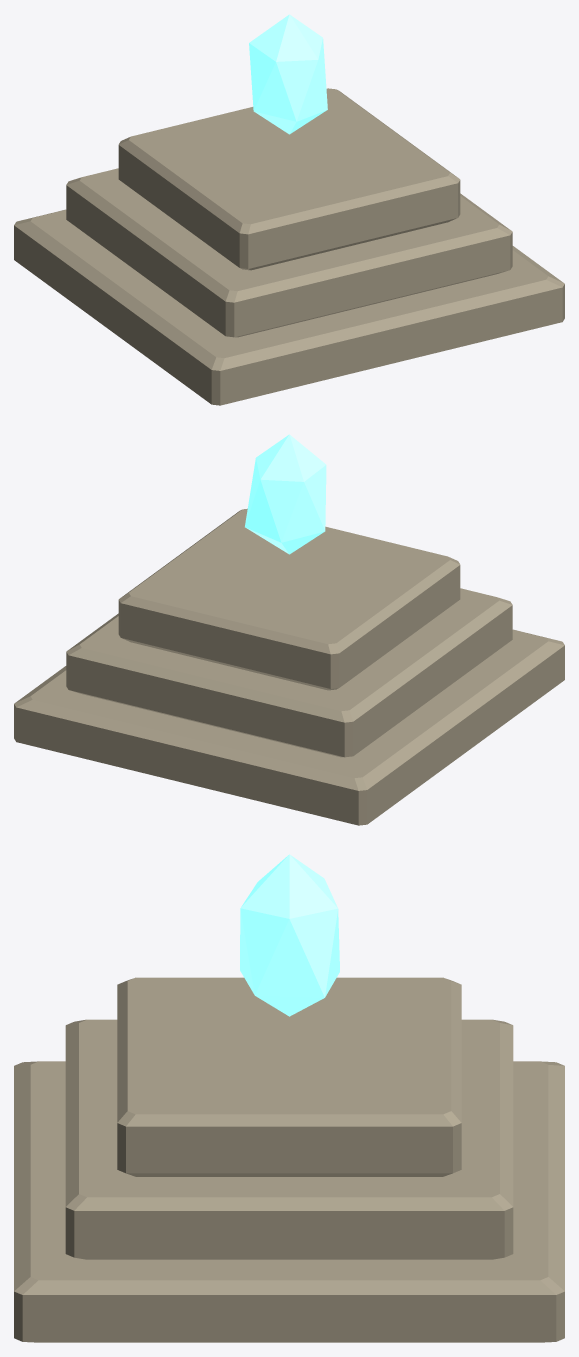
The model's file is SM_RUI_PROP_000_MemoryPlinth.glb.
3 renders of one model, top to bottom at view 1: azimuth 30°, elevation 25°; view 2: azimuth 150°, elevation 25°; view 3: azimuth 270°, elevation 25°, orthographic. The views are drawn at different scales.
Parts seen in each view (by area): view 1: SM_RUI_PROP_000_MemoryPlinth; view 2: SM_RUI_PROP_000_MemoryPlinth; view 3: SM_RUI_PROP_000_MemoryPlinth.
Part boxes in pixels (box(x1,y1,x2,y2)): SM_RUI_PROP_000_MemoryPlinth: box(14, 14, 564, 405); SM_RUI_PROP_000_MemoryPlinth: box(14, 434, 564, 825); SM_RUI_PROP_000_MemoryPlinth: box(14, 854, 564, 1342).
Size of the model in its own units: 1.6 by 1.21 by 1.6.
